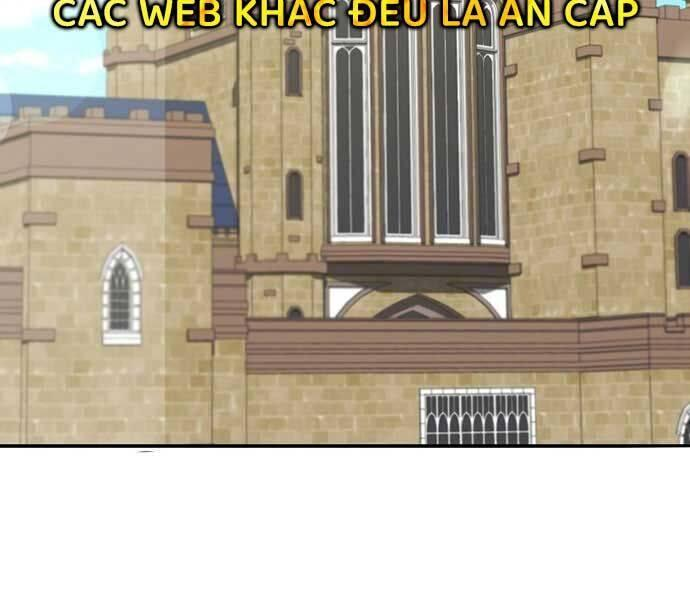quangcao: (51, 0, 643, 33)
